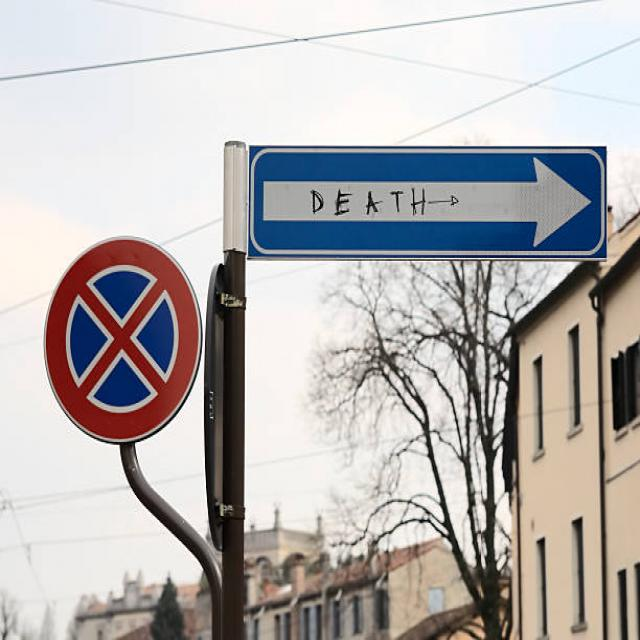no_parking: (33, 227, 205, 449)
